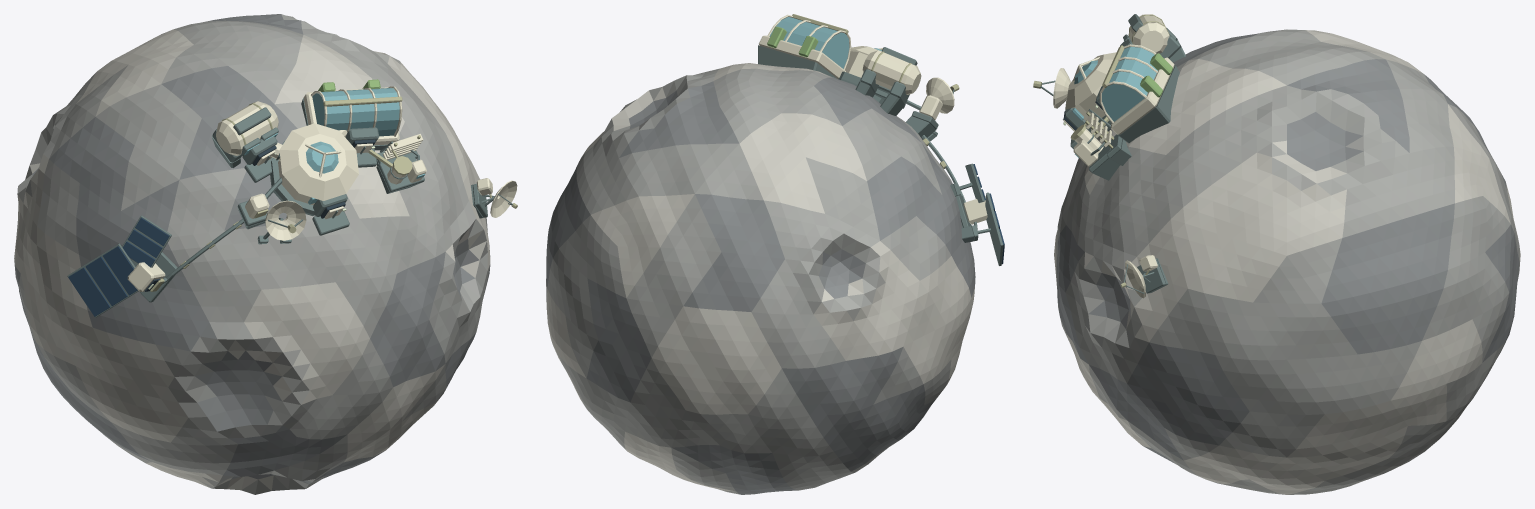
The model's file is Moon.glb.
3 views of the same model, side by side, from view 1: azimuth 30°, elevation 25°; view 2: azimuth 150°, elevation 25°; view 3: azimuth 270°, elevation 25° (orthographic). The views are drawn at different scales.
Parts seen in each view (by area): view 1: S3_Moon • modeled surfaces; view 2: S3_Moon • modeled surfaces; view 3: S3_Moon • modeled surfaces.
Boxes of the visible parts, <box> form: S3_Moon • modeled surfaces: <box>14,14,517,494</box>; S3_Moon • modeled surfaces: <box>546,14,1004,494</box>; S3_Moon • modeled surfaces: <box>1033,14,1520,494</box>.
Bounding box in the file's own units: 1.73 × 1.66 × 1.73.
